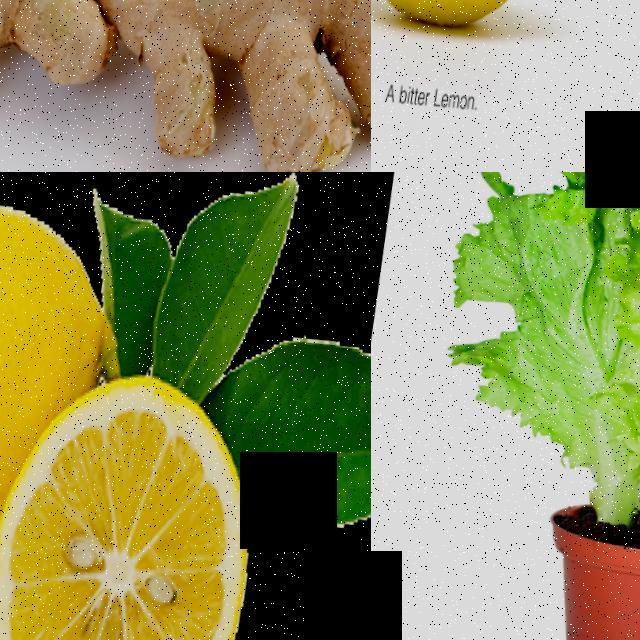ginger: (71, 0, 371, 172), (0, 0, 162, 172)
lemon: (0, 356, 272, 640), (0, 173, 53, 596), (371, 0, 612, 77)
lettuce: (406, 172, 640, 552)
